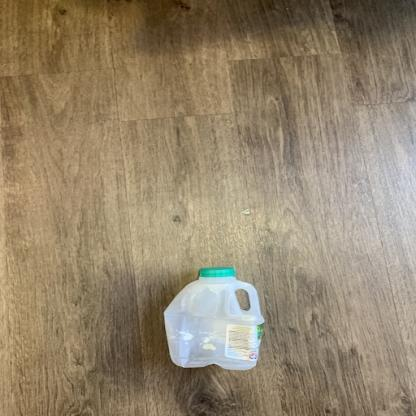trash: (162, 264, 264, 377)
